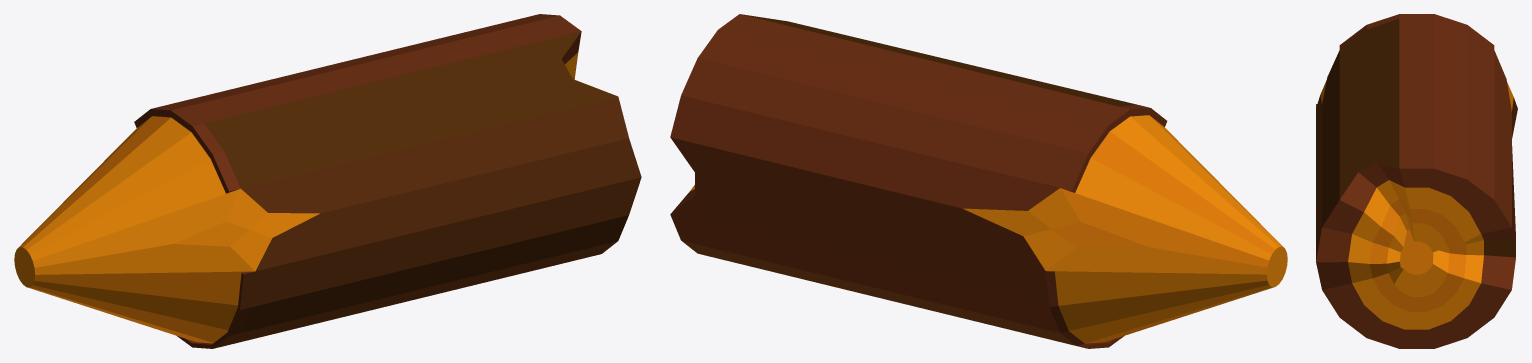
The model's file is Broken log_28.fbx.
The picture shows the model from 3 angles, left to right: view 1: azimuth 30°, elevation 25°; view 2: azimuth 150°, elevation 25°; view 3: azimuth 270°, elevation 25°; orthographic projection. The views are drawn at different scales.
Visible parts, largest first — view 1: Circle.409; view 2: Circle.409; view 3: Circle.409.
Boxes of the visible parts, bbox=[...] form: Circle.409: bbox=[14, 14, 641, 348]; Circle.409: bbox=[670, 14, 1287, 348]; Circle.409: bbox=[1316, 14, 1517, 348].
Size of the model in its own units: 66.08 by 25.19 by 25.57.
